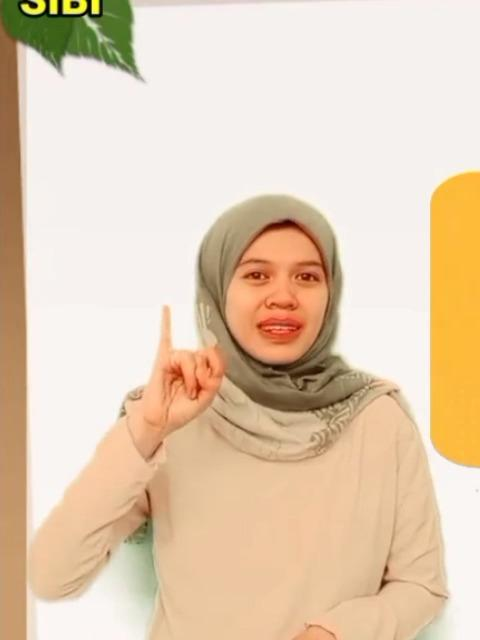I: (140, 304, 226, 432)
